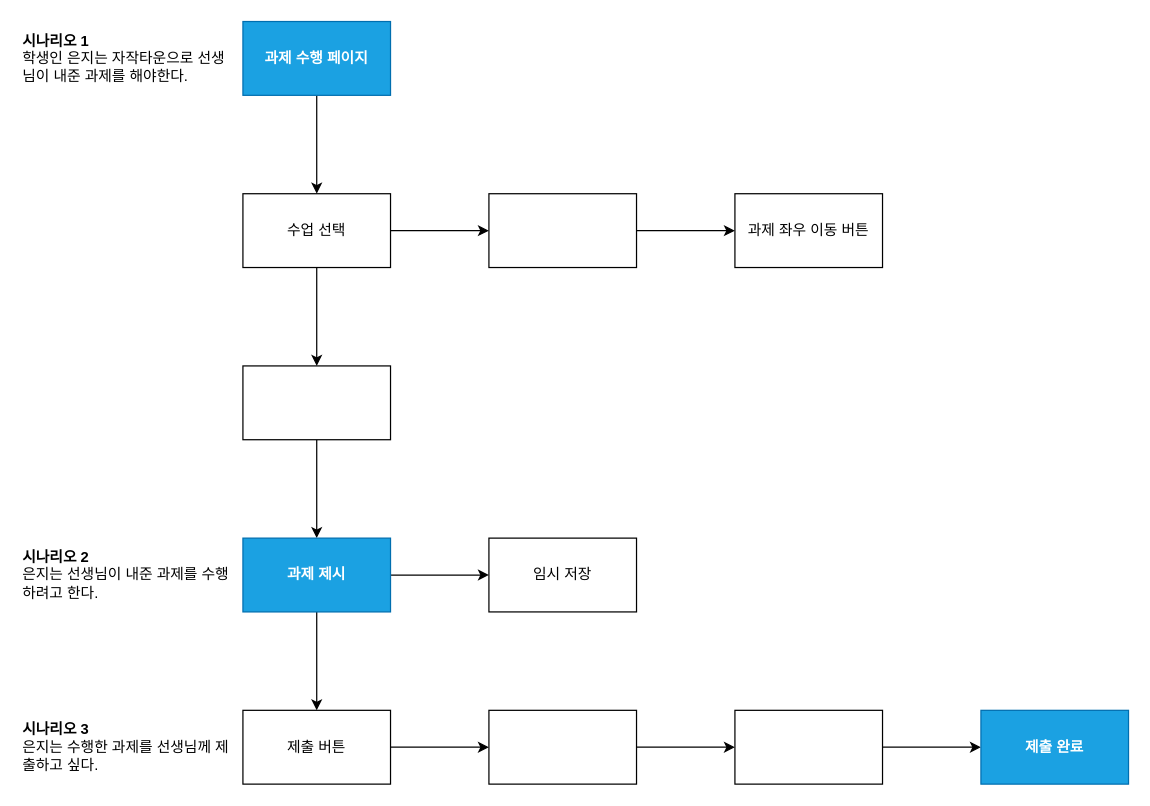
Some shapes in this 1150 by 806 pixel diagram are drawn without their labels. The shapes that lost their labels are listed below. From the top down, each one's centre as x and y in pixels, then its label:
At (x=562, y=230): "과제 설명".
At (x=316, y=402): "과제 보기 버튼".
At (x=562, y=746): "주의사항 안내".
At (x=808, y=746): "확인 버튼".
